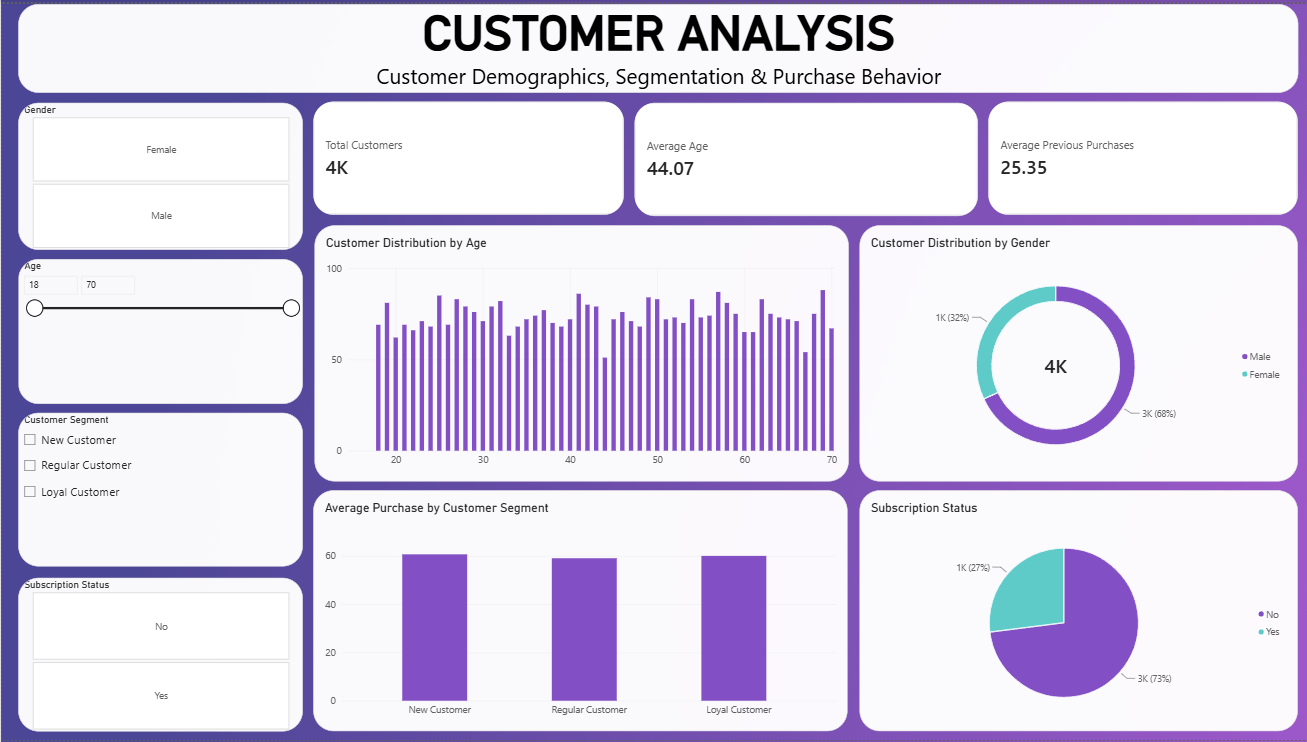

Layout of this report page (visuals, bound fields, positions):
{"tool":"powerbi","page":{"name":"Customer Analysis","canvas":[1920,1080],"ordinal":1},"visuals":[{"type":"textbox","title":"CUSTOMER ANALYSIS","box":[23.8,0,1878.2,130.1],"z":0},{"type":"slicer","fields":{"Values":["customer_shopping customer_shopping_data.Gender"]},"box":[23.8,144.8,417.8,216.2],"z":1000},{"type":"slicer","fields":{"Values":["customer_shopping customer_shopping_data.Age"]},"box":[23.8,373.8,417.8,212.6],"z":2000},{"type":"slicer","fields":{"Values":["customer_shopping customer_shopping_data.Customer Segment"]},"box":[23.8,599.2,417.8,225.4],"z":3000},{"type":"slicer","fields":{"Values":["customer_shopping customer_shopping_data.Subscription Status"]},"box":[23.8,841.1,417.8,225.4],"z":4000},{"type":"cardVisual","fields":{"Data":["customer_shopping customer_shopping_data.Customer Count"]},"box":[456.3,142.9,456.3,166.7],"z":5000},{"type":"cardVisual","fields":{"Data":["customer_shopping customer_shopping_data.Average Age"]},"box":[929,144.8,503.9,166.7],"z":6000},{"type":"cardVisual","fields":{"Data":["customer_shopping customer_shopping_data.Average Previous Purchases"]},"box":[1447.6,142.9,454.4,166.7],"z":7000},{"type":"clusteredColumnChart","title":"Customer Distribution by Age","fields":{"Category":["customer_shopping customer_shopping_data.Age"],"Y":["customer_shopping customer_shopping_data.Customer Count"]},"box":[458.1,324.3,784.3,375.6],"z":8000},{"type":"donutChart","title":"Customer Distribution by Gender","fields":{"Category":["customer_shopping customer_shopping_data.Gender"],"Y":["customer_shopping customer_shopping_data.Customer Count"]},"box":[1258.9,324.3,643.2,375.6],"z":9000},{"type":"clusteredColumnChart","title":"Average Purchase by Customer Segment","fields":{"Category":["customer_shopping customer_shopping_data.Customer Segment"],"Y":["customer_shopping customer_shopping_data.Average Purchase"]},"box":[456.3,712.8,784.3,353.7],"z":10000},{"type":"pieChart","title":"Subscription Status","fields":{"Category":["customer_shopping customer_shopping_data.Subscription Status"],"Y":["customer_shopping customer_shopping_data.Customer Count"]},"box":[1258.9,712.8,643.2,353.7],"z":11000}]}

Visuals, with their boxes in screenshot pixels (x1, y1, x2, y2), scaled from the page's 1920x1080 canvas onto the 1307x742 screenshot:
"CUSTOMER ANALYSIS" textbox: 16, 0, 1295, 89
slicer - customer_shopping customer_shopping_data.Gender: 16, 99, 301, 248
slicer - customer_shopping customer_shopping_data.Age: 16, 257, 301, 403
slicer - customer_shopping customer_shopping_data.Customer Segment: 16, 412, 301, 567
slicer - customer_shopping customer_shopping_data.Subscription Status: 16, 578, 301, 733
cardVisual - customer_shopping customer_shopping_data.Customer Count: 311, 98, 621, 213
cardVisual - customer_shopping customer_shopping_data.Average Age: 632, 99, 975, 214
cardVisual - customer_shopping customer_shopping_data.Average Previous Purchases: 985, 98, 1295, 213
"Customer Distribution by Age" clusteredColumnChart: 312, 223, 846, 481
"Customer Distribution by Gender" donutChart: 857, 223, 1295, 481
"Average Purchase by Customer Segment" clusteredColumnChart: 311, 490, 845, 733
"Subscription Status" pieChart: 857, 490, 1295, 733
